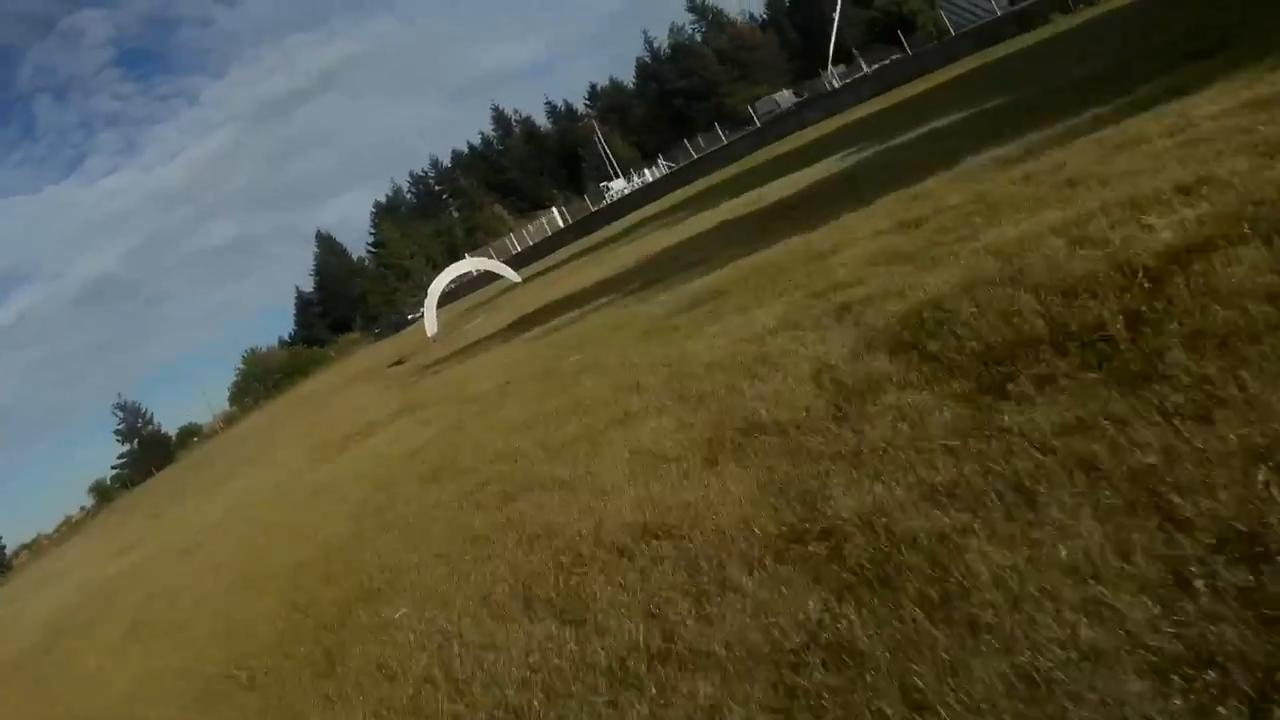gate: (424, 256, 521, 337)
